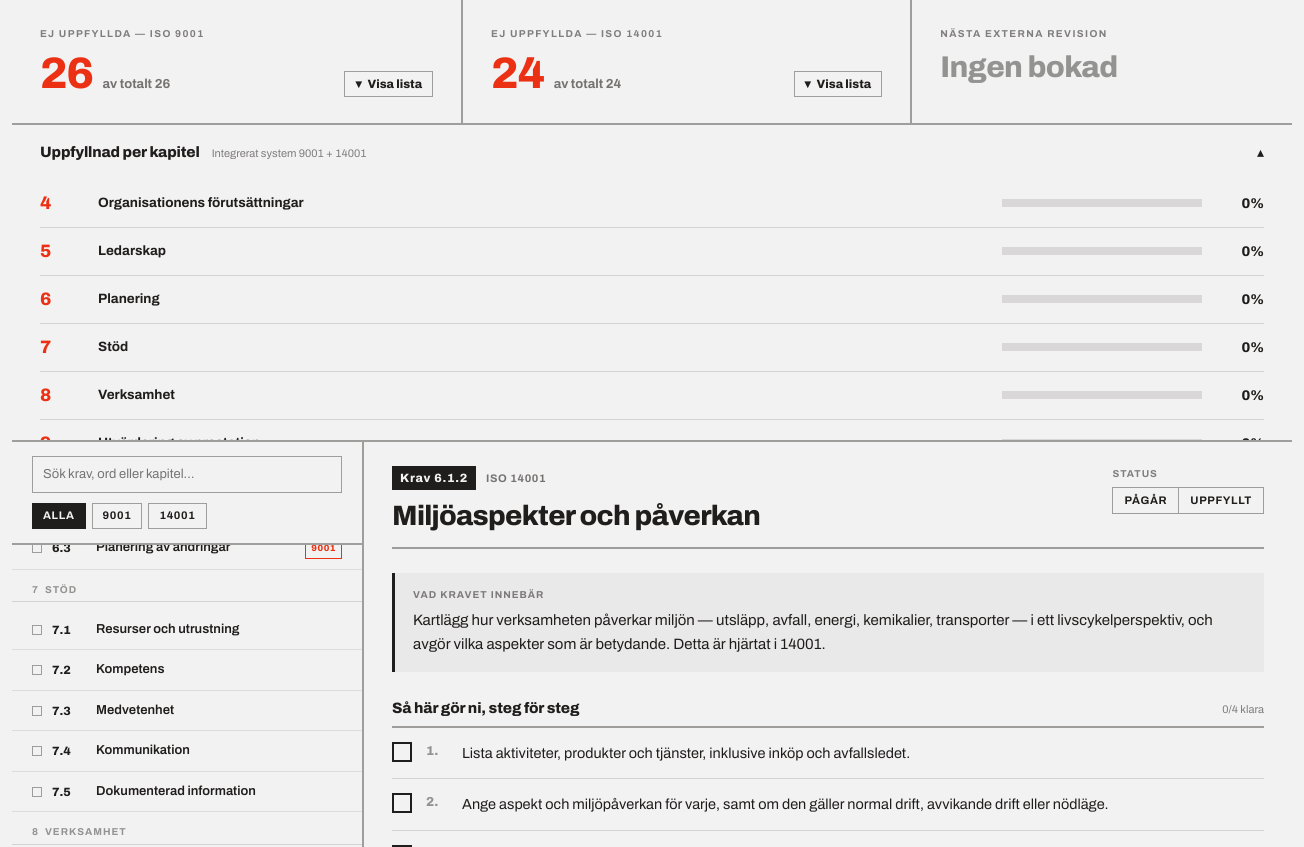
it: the requirement walkthrough › navigates when a tree row is chosen
(page scrolled)
Click the button "7.2 Kompetens" at {"x": 130, "y": 669}, box [12,650,362,691]
(page scrolled)
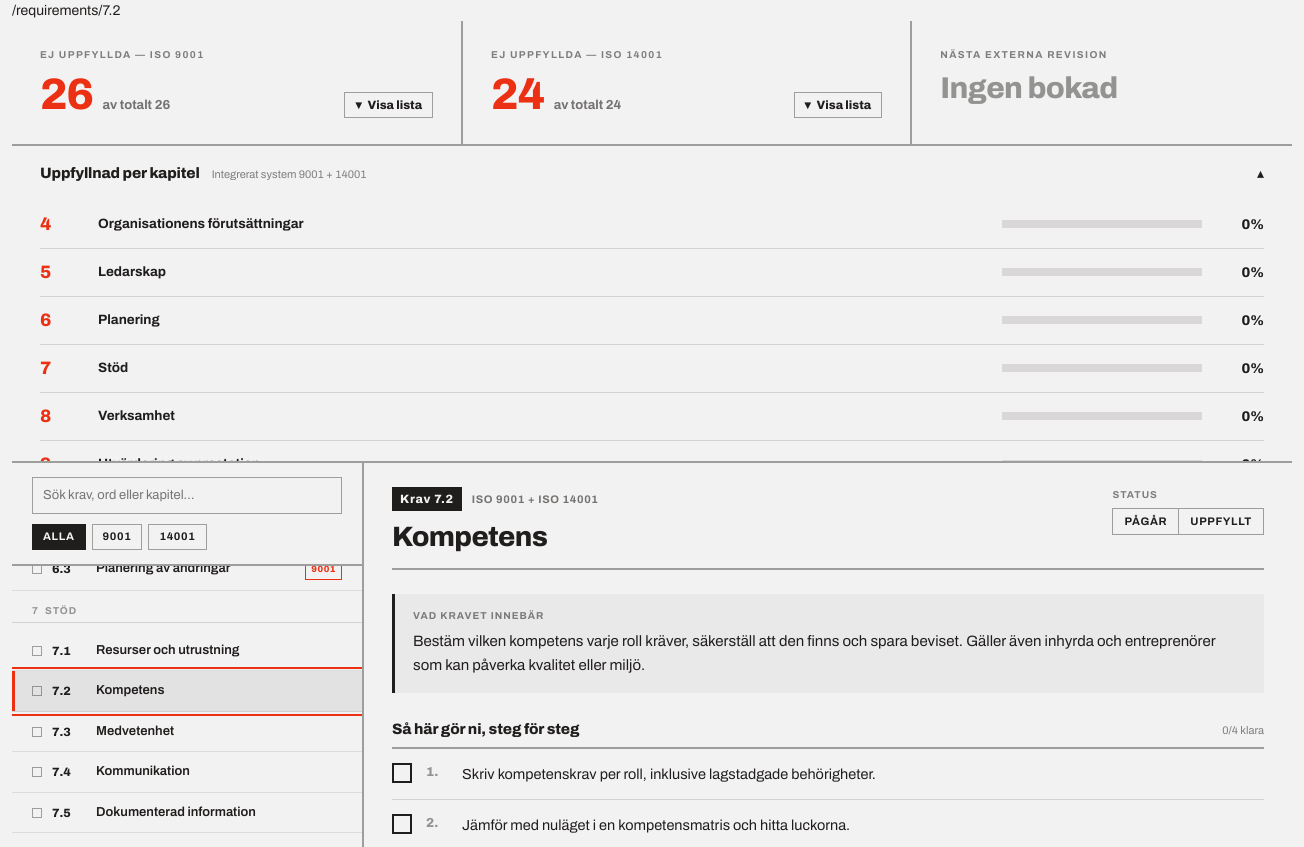
Check: the text with test id "pathname" reads "/requirements/7.2", box [12,3,120,18]
